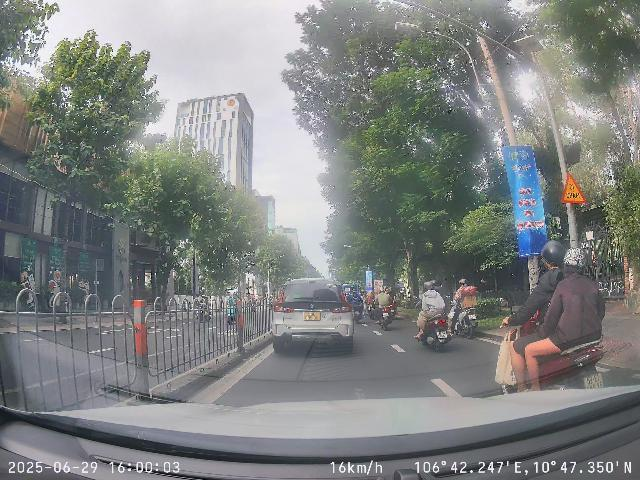245-di-cham: (561, 173, 586, 204)
